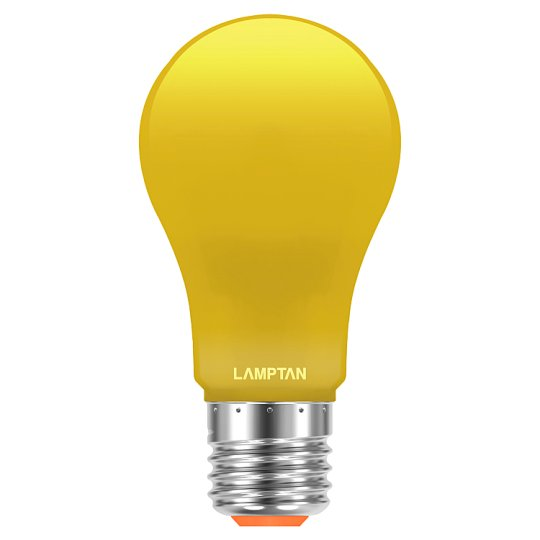Light_bulb: (133, 5, 404, 536)
